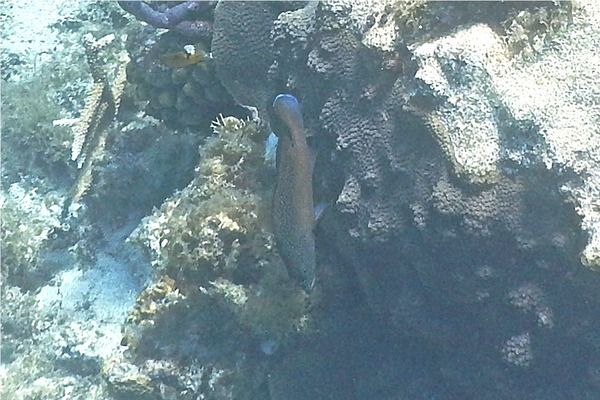Cephalopholis_fulvaw: (246, 83, 330, 304)
